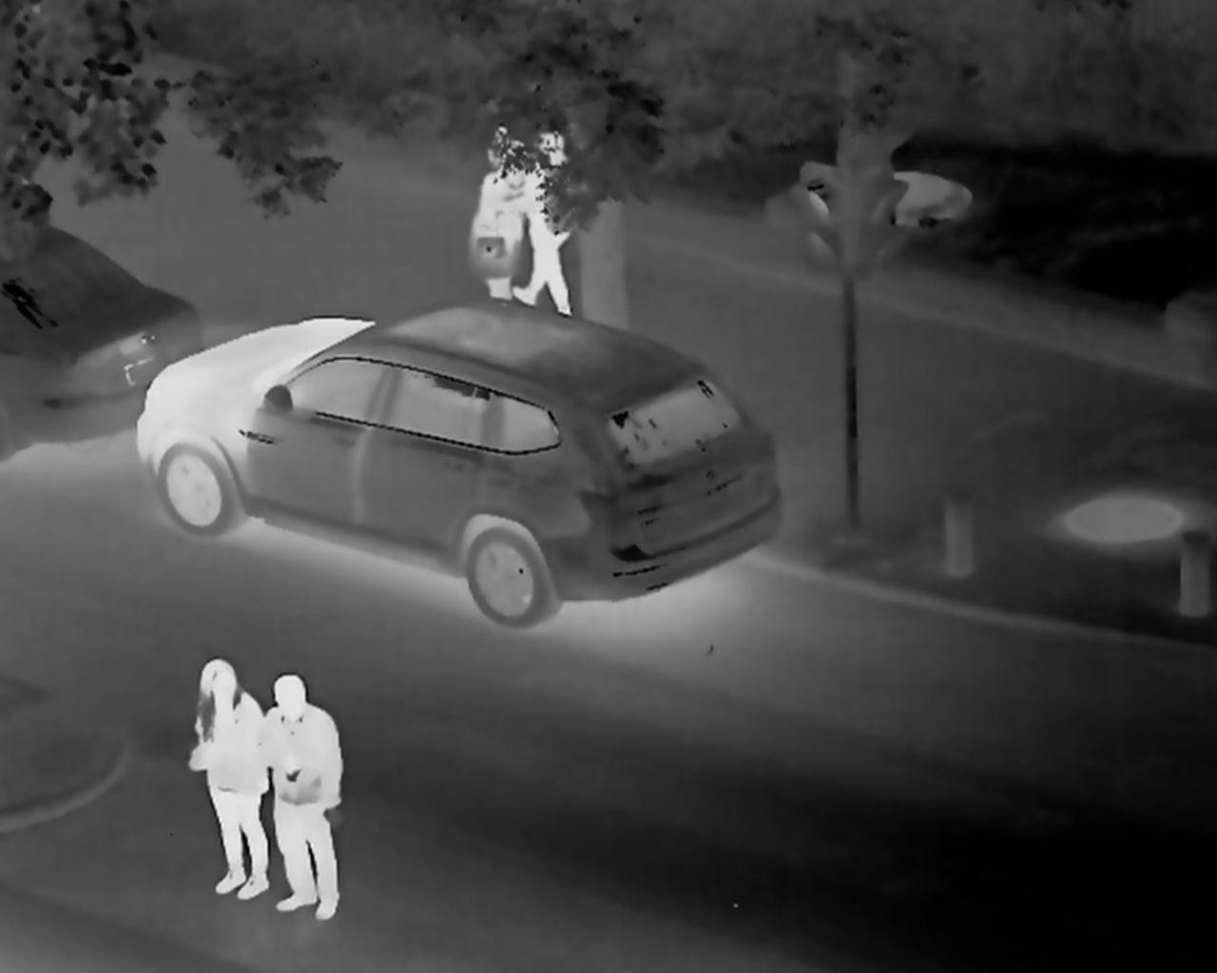person: (254, 674, 344, 925), (186, 656, 269, 903), (513, 128, 579, 318), (468, 122, 522, 303)
